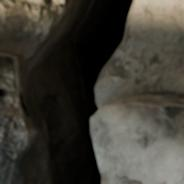broken_brick: (92, 93, 183, 183), (0, 65, 34, 183), (0, 49, 23, 62)
crack: (0, 0, 182, 183), (0, 86, 9, 98)
